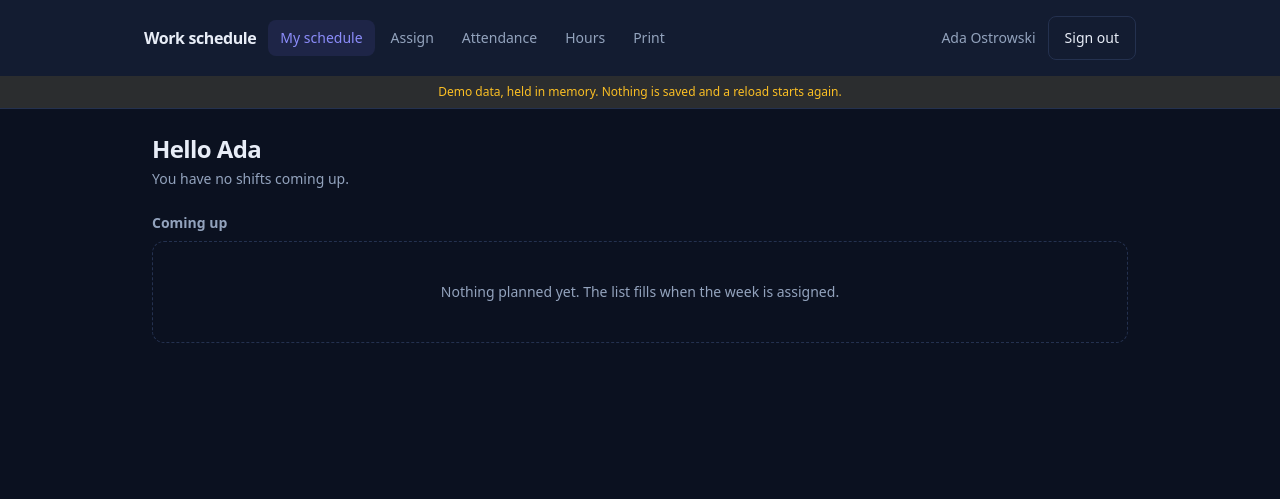
Scenario: attendance reaches the hours screen › carries a worked shift through to the number the student is judged on
Click the link "Attendance" at (499, 38), box [462,28,537,47]
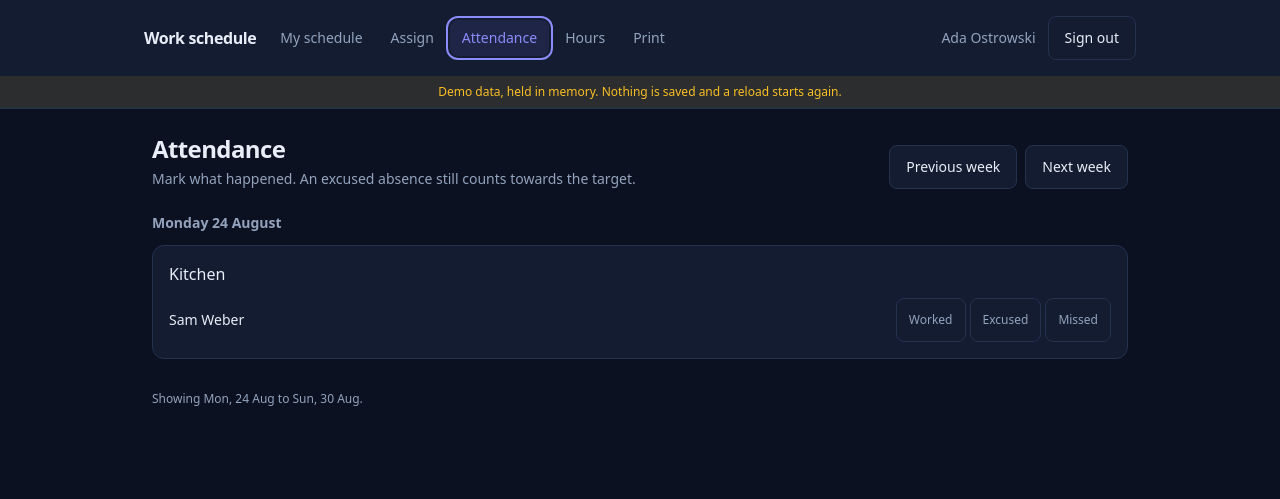
Click the button "Worked" at (931, 320), box [896,298,966,342]
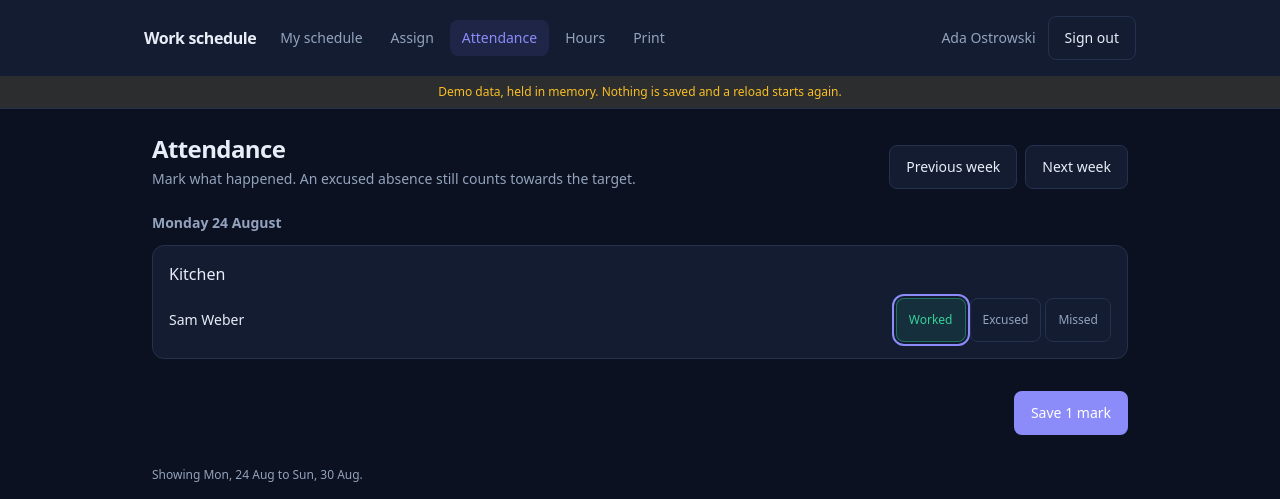
Click the button "Save 1 mark" at (1071, 413), box [1014,391,1128,435]
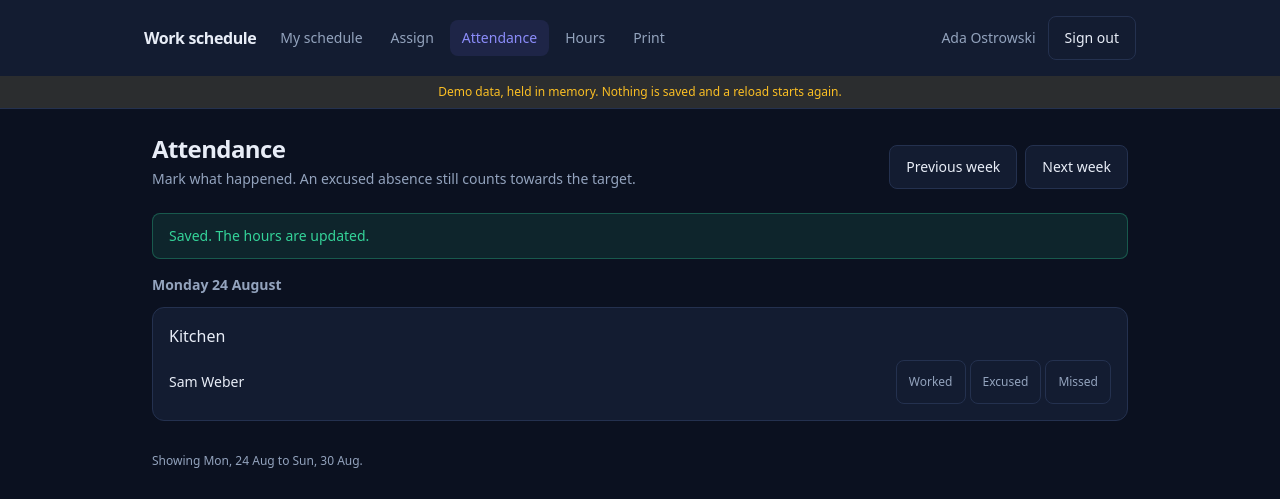
Expected: the text "Saved. The hours are updated." is shown, [152,213,1128,259]
Click the link "Hours" at (585, 38), box [565,28,605,47]
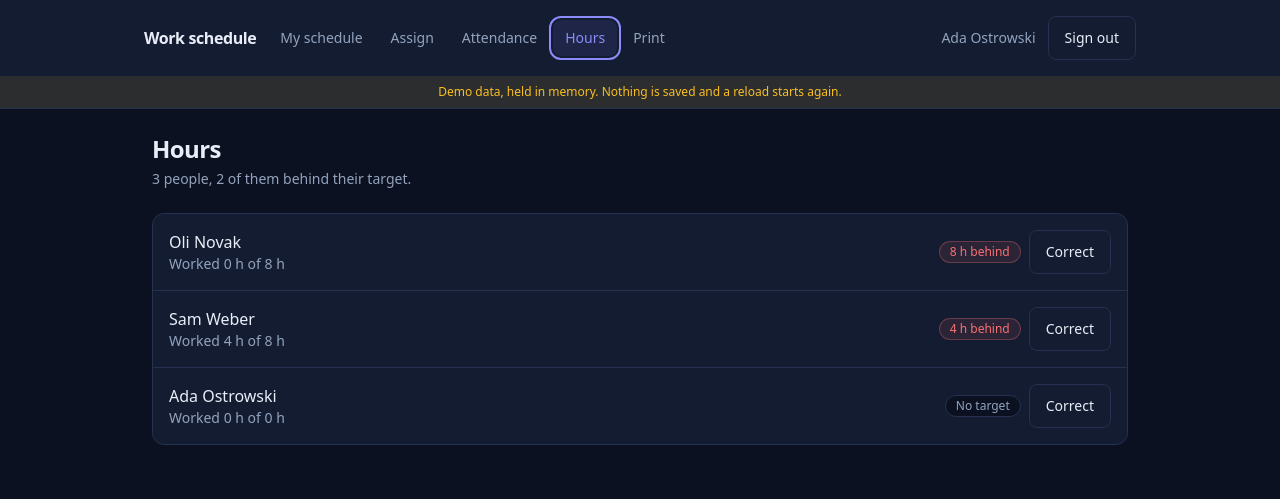
Expected: the text "Worked 4 h of 8 h" is shown, [169,331,285,351]
Expected: the text "4 h behind" is shown, [939,318,1021,340]
